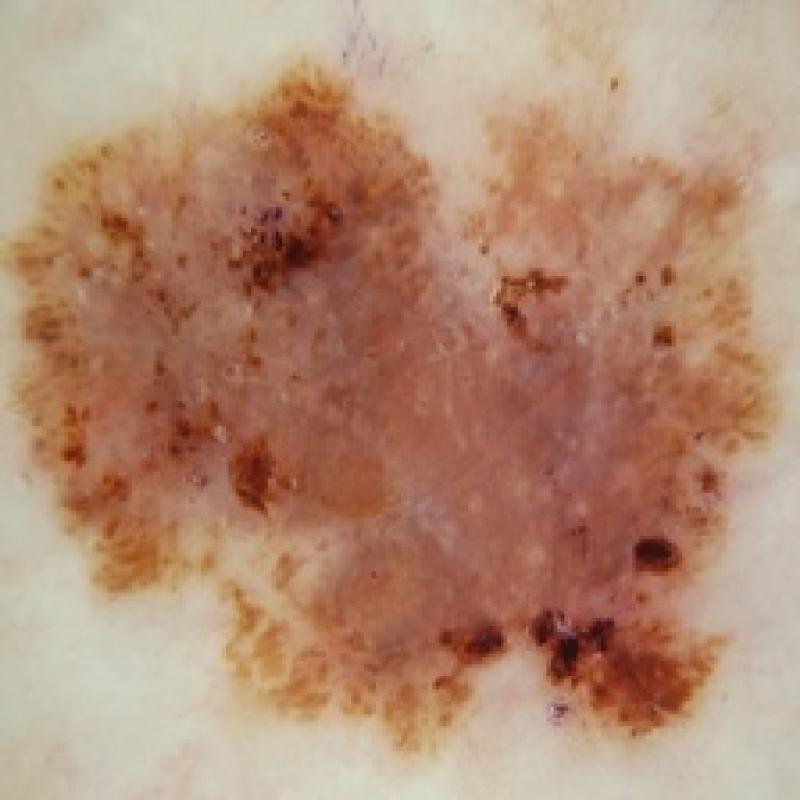malignant: (13, 57, 776, 761)
